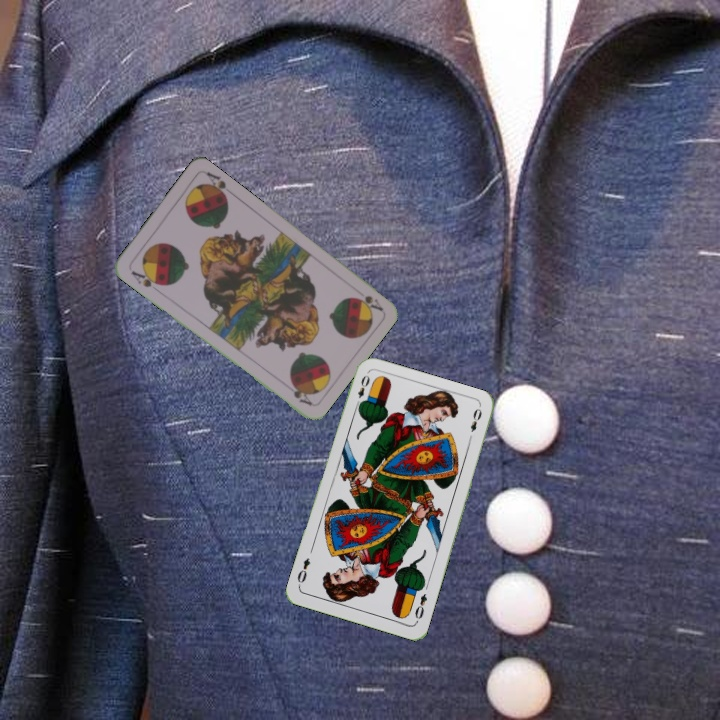EO: (351, 371, 372, 410), (411, 589, 430, 625)
SA: (127, 267, 165, 290), (351, 291, 385, 314)
